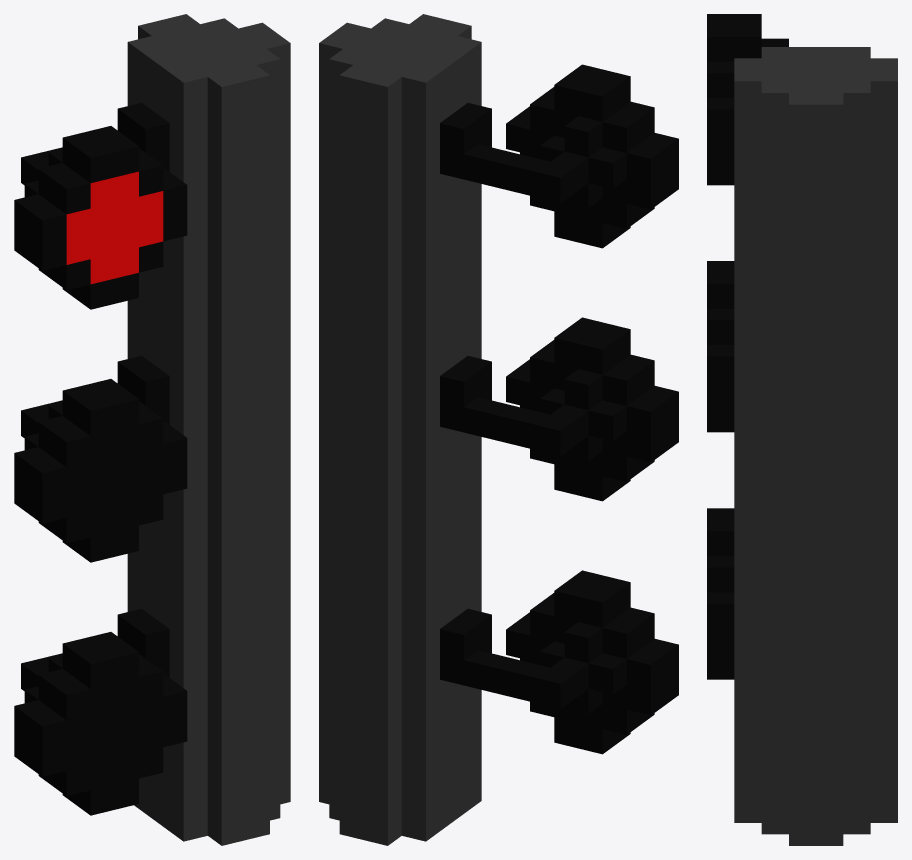
Rendered from Frame_Feu_01.obj.
3 views of the same model, side by side, from view 1: azimuth 30°, elevation 25°; view 2: azimuth 150°, elevation 25°; view 3: azimuth 270°, elevation 25° (orthographic). The views are drawn at different scales.
Size of the model in its own units: 12 by 30 by 7.
1 material, 1 textured.
